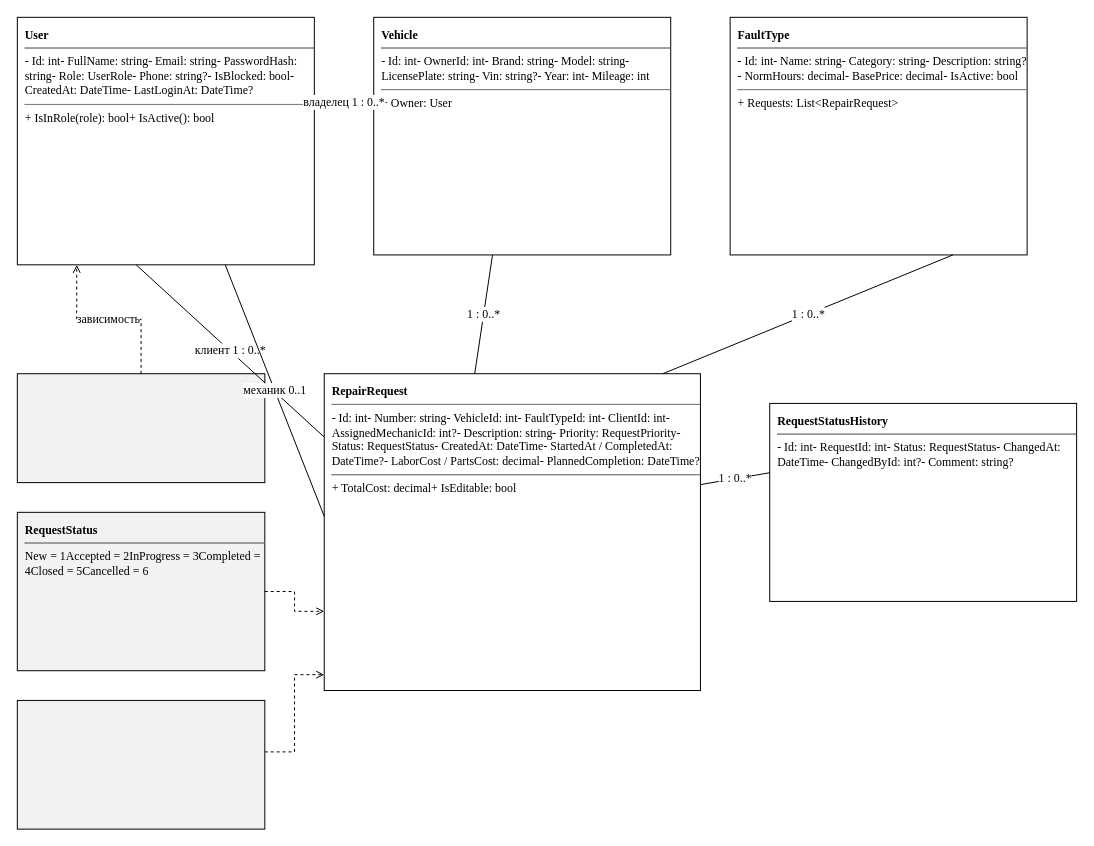
The diagram is 1094 pixels wide and 846 high, and some of its shapes have lost their labels. Each missing label, with the centre of its shape:
RequestPriority Low = 1Normal = 2High = 3Critical = 4: [140,764]
UserRole Client = 1Manager = 2Administrator = 3: [140,428]
